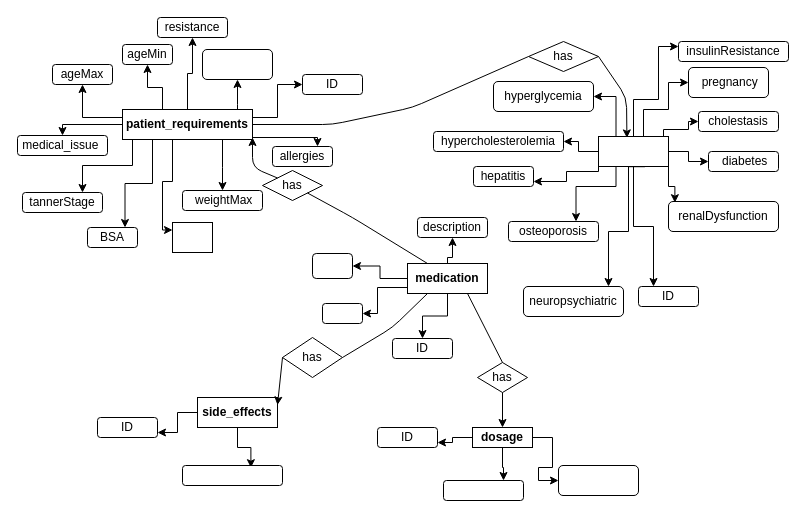
Image size: 806x518. Some labels were removed from this diagram. The box of each missing label's shape, as (x1, y1, x2, y2) in pixels:
amount: (442, 480, 524, 500)
HLA: (172, 222, 212, 252)
limitations: (598, 136, 668, 166)
name: (312, 252, 352, 278)
side_effect_list: (182, 464, 282, 486)
times_a_day: (558, 464, 638, 496)
type: (322, 302, 362, 324)
weightMin: (202, 48, 272, 80)
